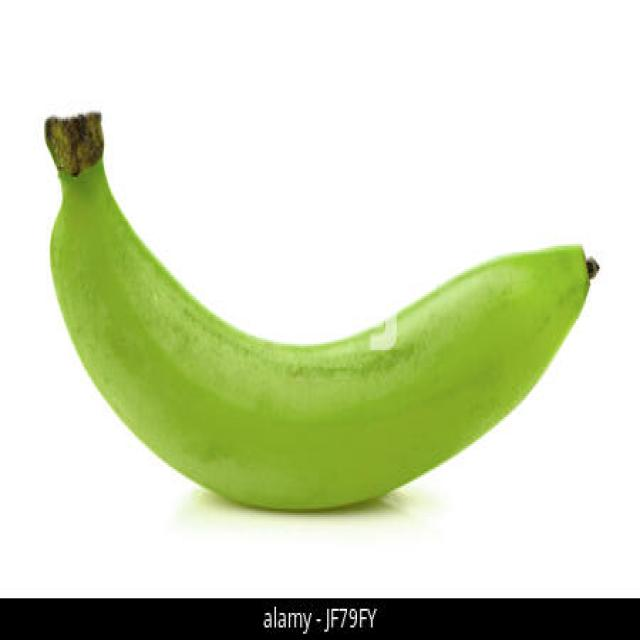non_orange: (41, 104, 597, 518)
